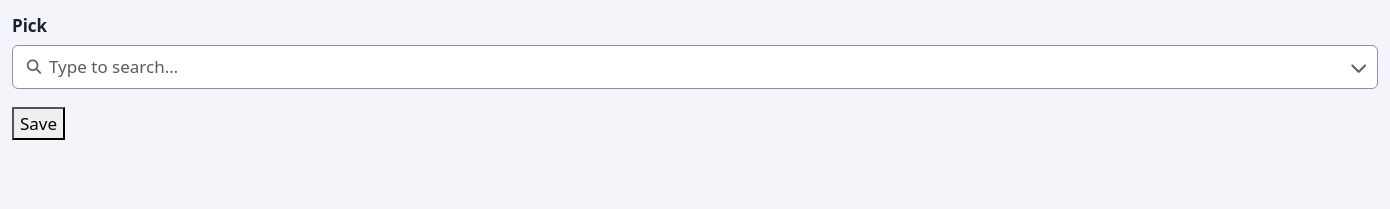
Scenario: says when nothing matches
This screenshot has width=1390, height=209.
Type "zzz" into the dropdown labelled "Pick" at point(695, 67), box left=12, top=45, right=1378, bottom=89
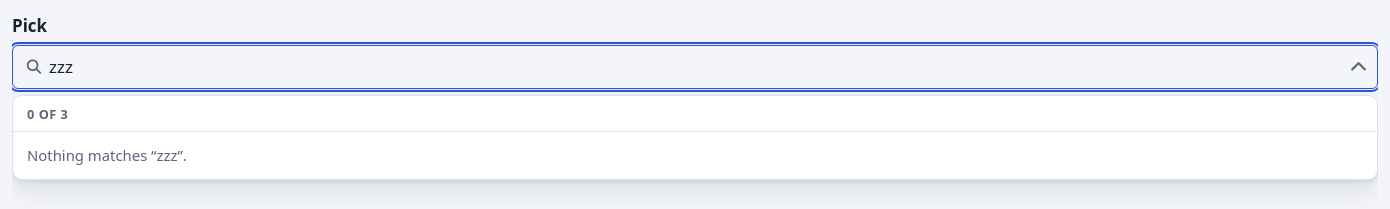
Expected: the message reads "Nothing matches “zzz”.", left=27, top=145, right=187, bottom=165
